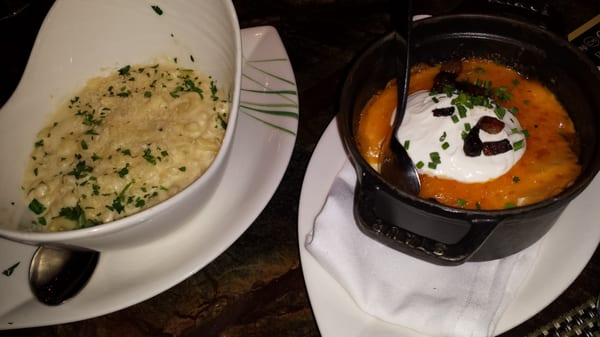sushi: (0, 1, 245, 315), (336, 30, 597, 264)
